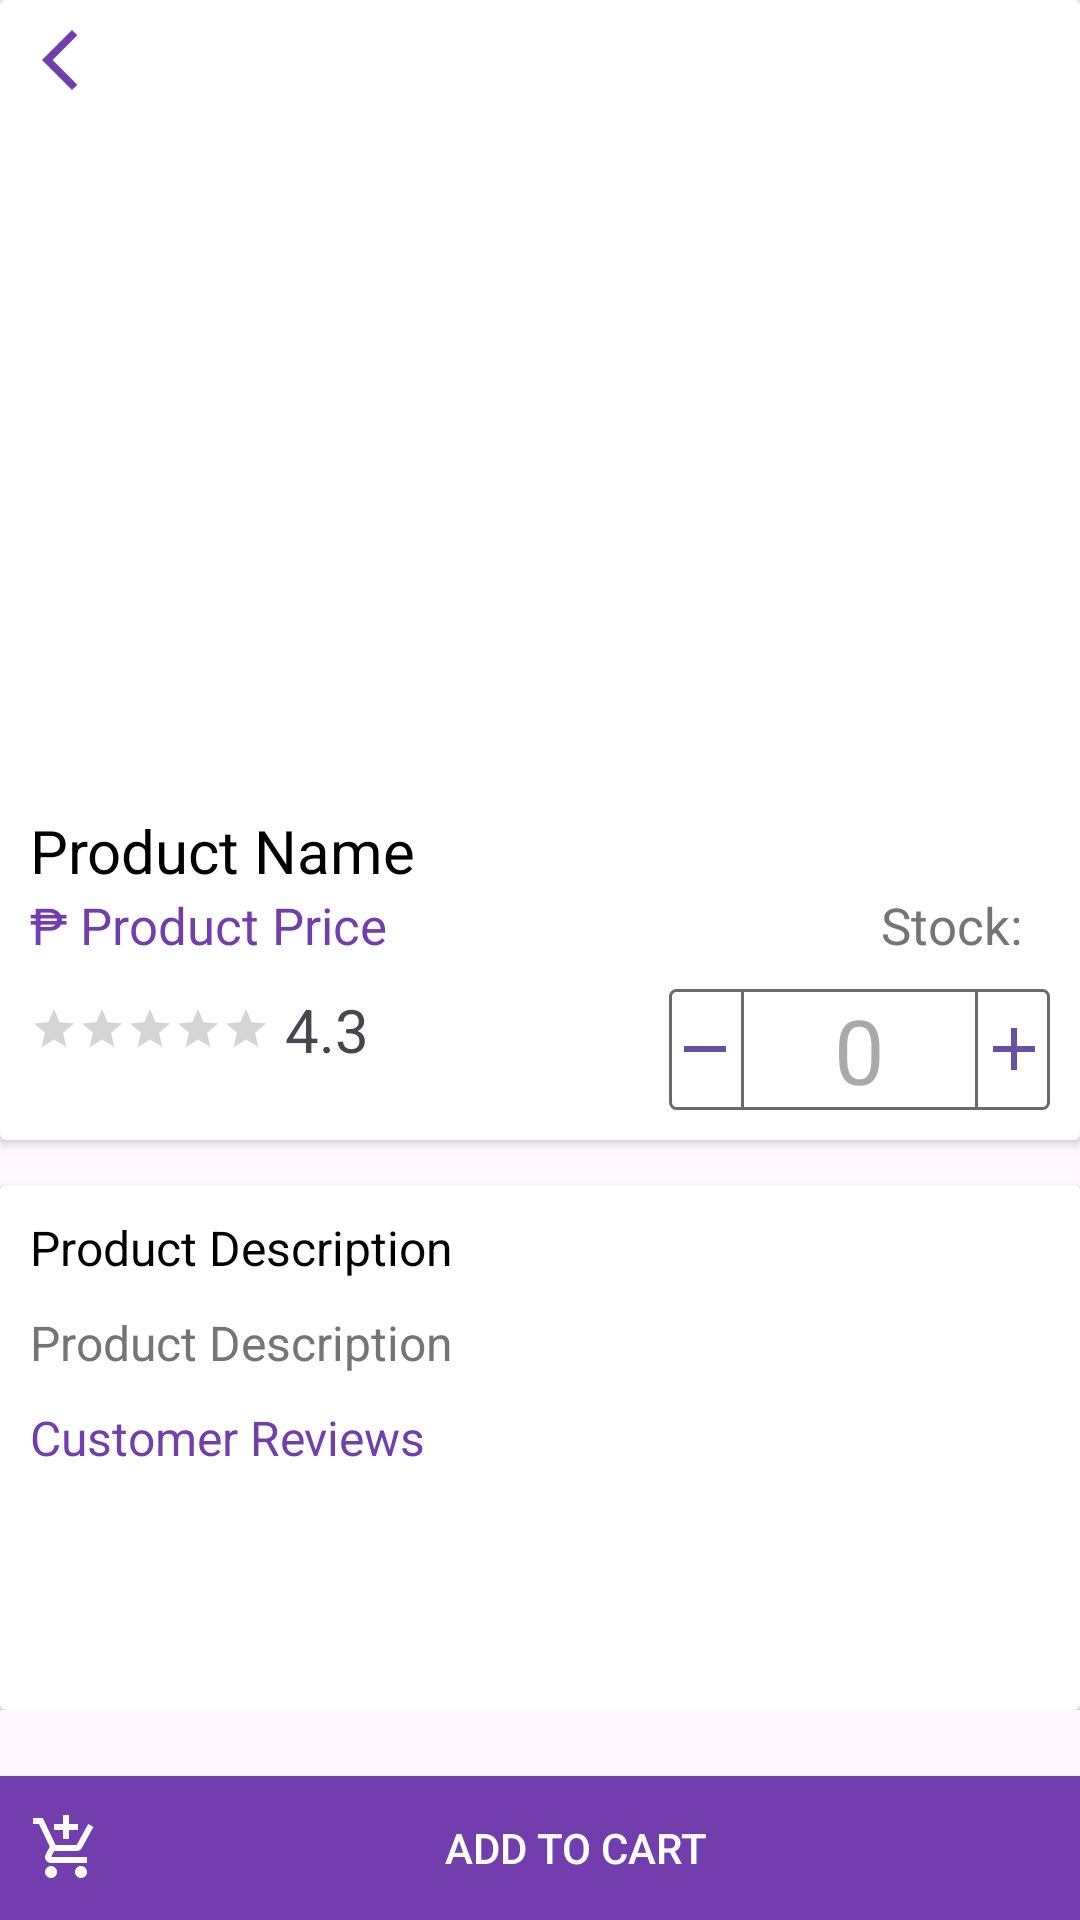

Screen size 1080px×1920px. Icon name, then its box in pixels as bbox=[x1, y1, x2, y2]:
add: bbox=[993, 1028, 1035, 1070]
